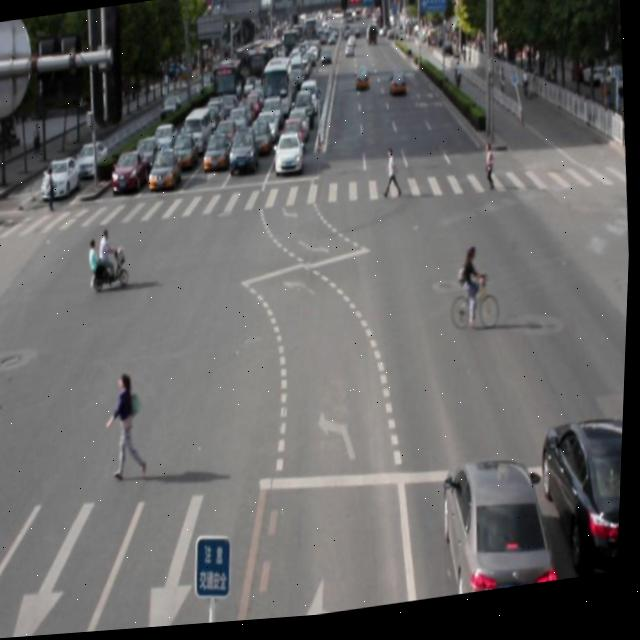car: (442, 462, 559, 604), (536, 427, 626, 590)
